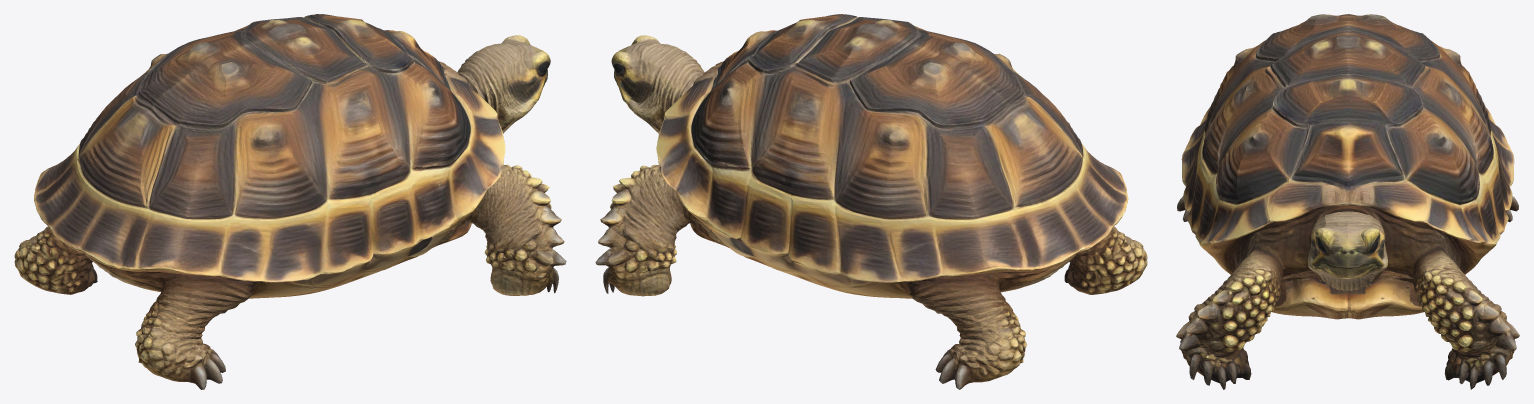
The model's file is land+turtle+3d+model.fbx.
3 renders of one model, left to right at view 1: azimuth 30°, elevation 25°; view 2: azimuth 150°, elevation 25°; view 3: azimuth 270°, elevation 25°, orthographic.
Parts seen in each view (by area): view 1: tripo_node_9df66756; view 2: tripo_node_9df66756; view 3: tripo_node_9df66756.
Boxes of the visible parts, x1,y1,x2,y2 form: tripo_node_9df66756: (14,14,566,389); tripo_node_9df66756: (595,14,1147,389); tripo_node_9df66756: (1176,14,1519,389).
Size of the model in its own units: 1 by 0.5199 by 0.6253.
Materials: 1 (1 with a texture image).
